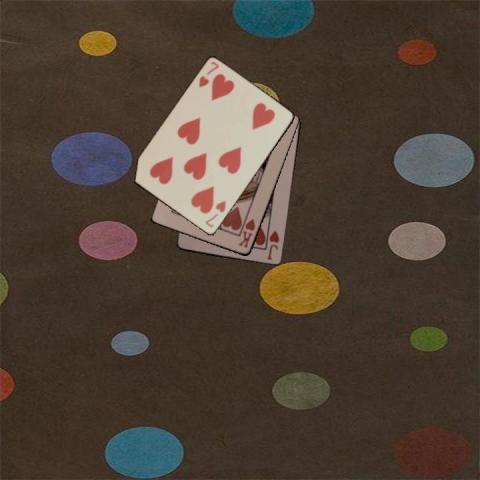7h: (196, 59, 221, 89), (203, 198, 227, 229)
Jh: (264, 228, 281, 261)
Kh: (235, 216, 257, 249)
